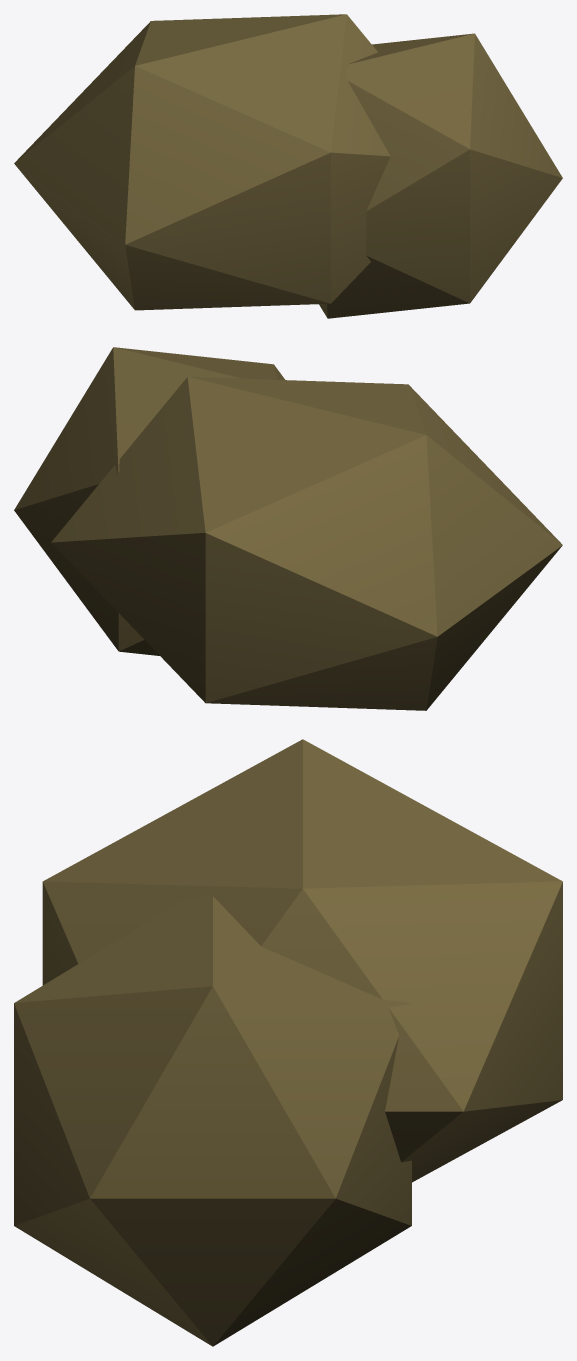
Rendered from arbusto_seco.glb.
3 renders of one model, top to bottom at view 1: azimuth 30°, elevation 25°; view 2: azimuth 150°, elevation 25°; view 3: azimuth 270°, elevation 25°, orthographic. The views are drawn at different scales.
Parts seen in each view (by area): view 1: arbusto_seco_liso; view 2: arbusto_seco_liso; view 3: arbusto_seco_liso.
Boxes of the visible parts, x1,y1,x2,y2 form: arbusto_seco_liso: (14, 14, 562, 318); arbusto_seco_liso: (14, 347, 562, 710); arbusto_seco_liso: (14, 739, 562, 1346).
Bounding box in the file's own units: 1.95 × 1.2 × 1.53.
